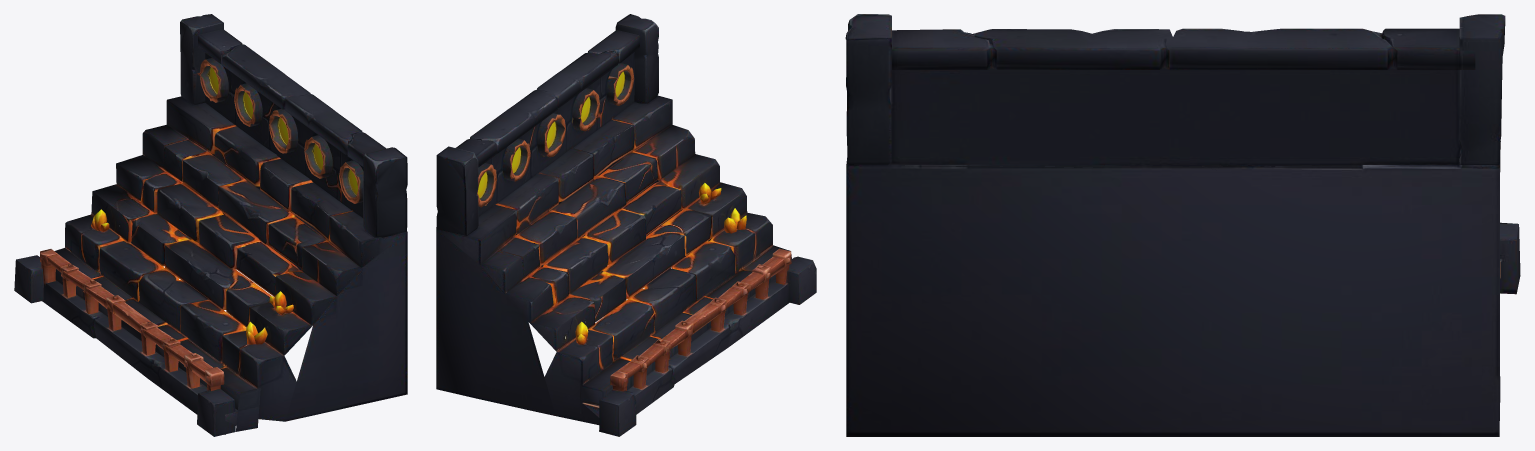
The model's file is volcan_grada.glb.
3 renders of one model, left to right at view 1: azimuth 30°, elevation 25°; view 2: azimuth 150°, elevation 25°; view 3: azimuth 270°, elevation 25°, orthographic. The views are drawn at different scales.
Parts seen in each view (by area): view 1: tripo_node_f380b22e-360c-4153-8fd5-20be97b276d8; view 2: tripo_node_f380b22e-360c-4153-8fd5-20be97b276d8; view 3: tripo_node_f380b22e-360c-4153-8fd5-20be97b276d8.
Boxes of the visible parts, left/top/right/bottom form: tripo_node_f380b22e-360c-4153-8fd5-20be97b276d8: left=14, top=14, right=407, bottom=436; tripo_node_f380b22e-360c-4153-8fd5-20be97b276d8: left=436, top=14, right=816, bottom=436; tripo_node_f380b22e-360c-4153-8fd5-20be97b276d8: left=845, top=14, right=1520, bottom=436.
Size of the model in its own units: 0.5493 by 0.6499 by 0.9982.
Materials: 1 (1 with a texture image).
